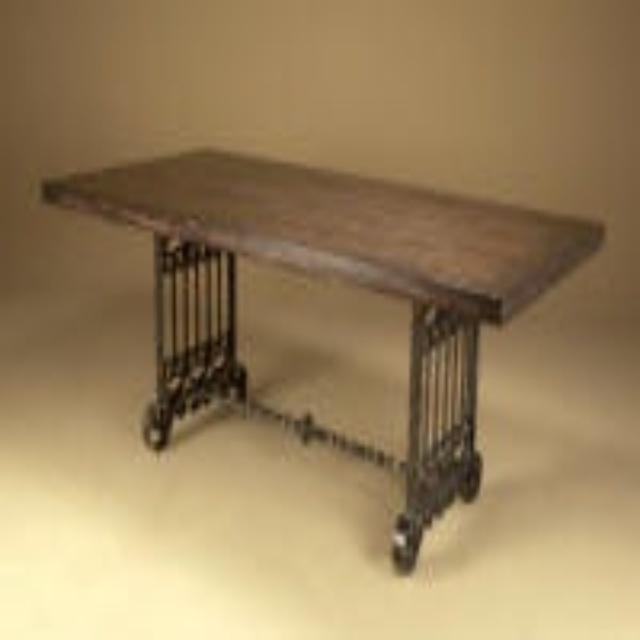obstacle: (42, 152, 602, 567)
